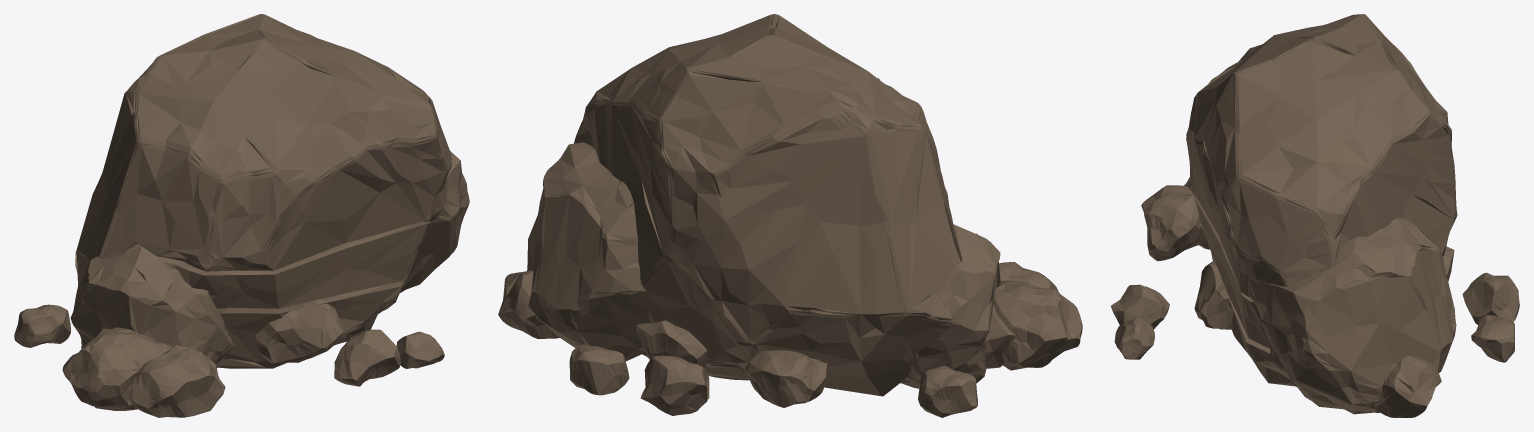
The model's file is SM_Boulder_02.fbx.
3 renders of one model, left to right at view 1: azimuth 30°, elevation 25°; view 2: azimuth 150°, elevation 25°; view 3: azimuth 270°, elevation 25°, orthographic. The views are drawn at different scales.
Visible parts, largest first — view 1: SM_Boulder_02; view 2: SM_Boulder_02; view 3: SM_Boulder_02.
Boxes of the visible parts, <box> form: SM_Boulder_02: <box>14,14,469,417</box>; SM_Boulder_02: <box>498,14,1082,417</box>; SM_Boulder_02: <box>1111,14,1519,417</box>.
Bounding box in the file's own units: 274 × 215 × 189.
